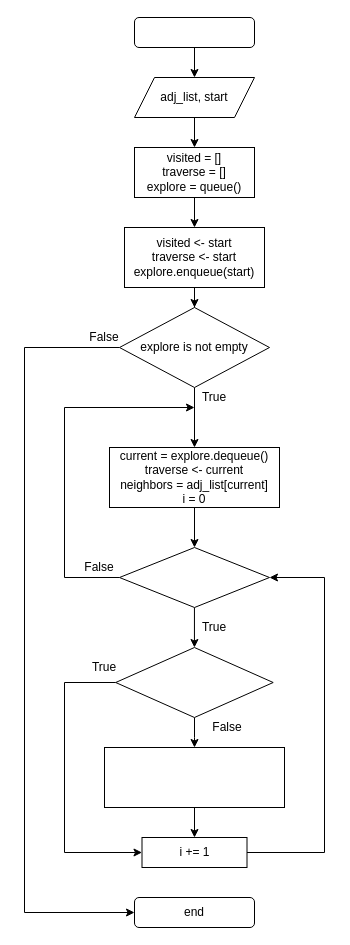
Some shapes in this 350 by 945 pixel diagram are drawn without their labels. Each missing label, with the centre of its shape:
i < len(neighbors): (194,577)
neighbors[i] is in visited: (194,682)
Start: (194,32)
visited <- neighbors[i] explore.enqueue(neighbors[i]): (194,777)
